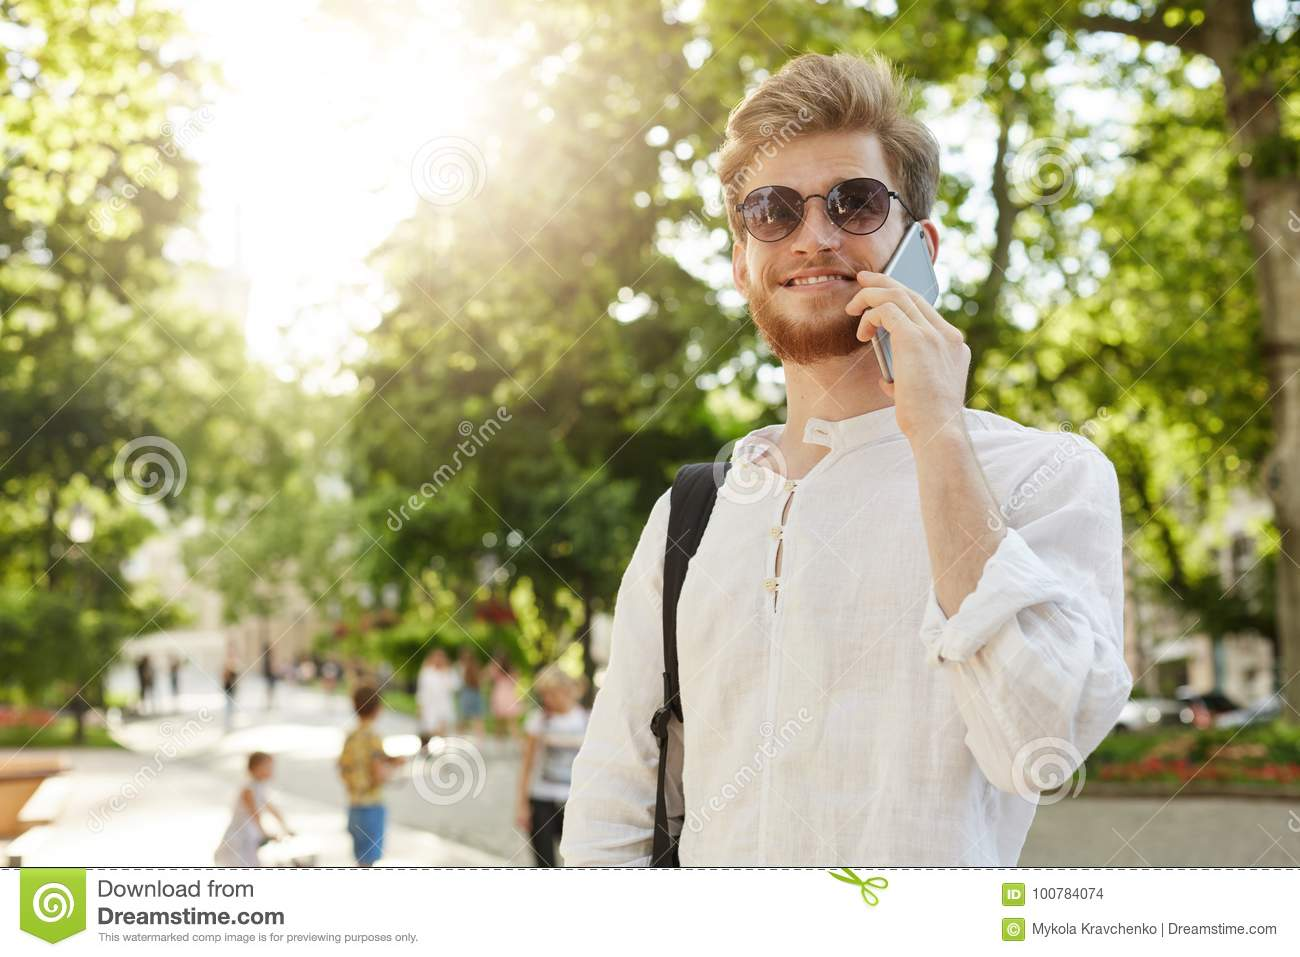phone: (867, 219, 942, 385)
talk: (742, 169, 978, 446)
